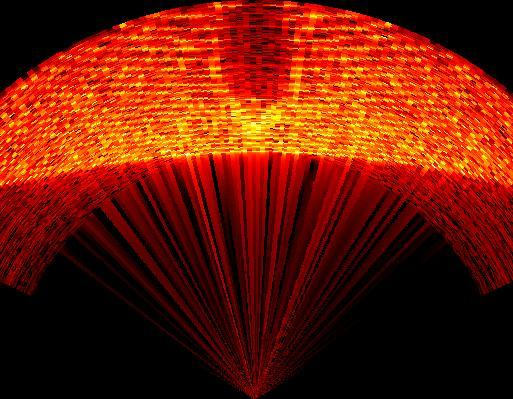box_crate: (214, 0, 288, 120)
